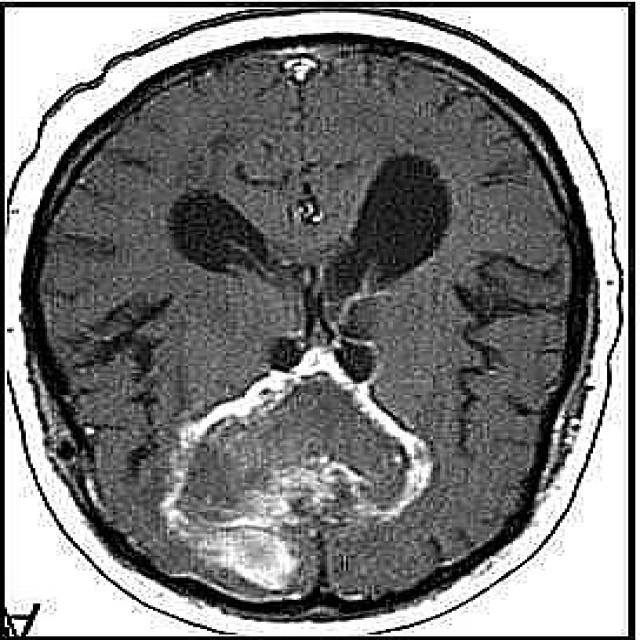Tumor-Cell: (166, 334, 451, 558)
